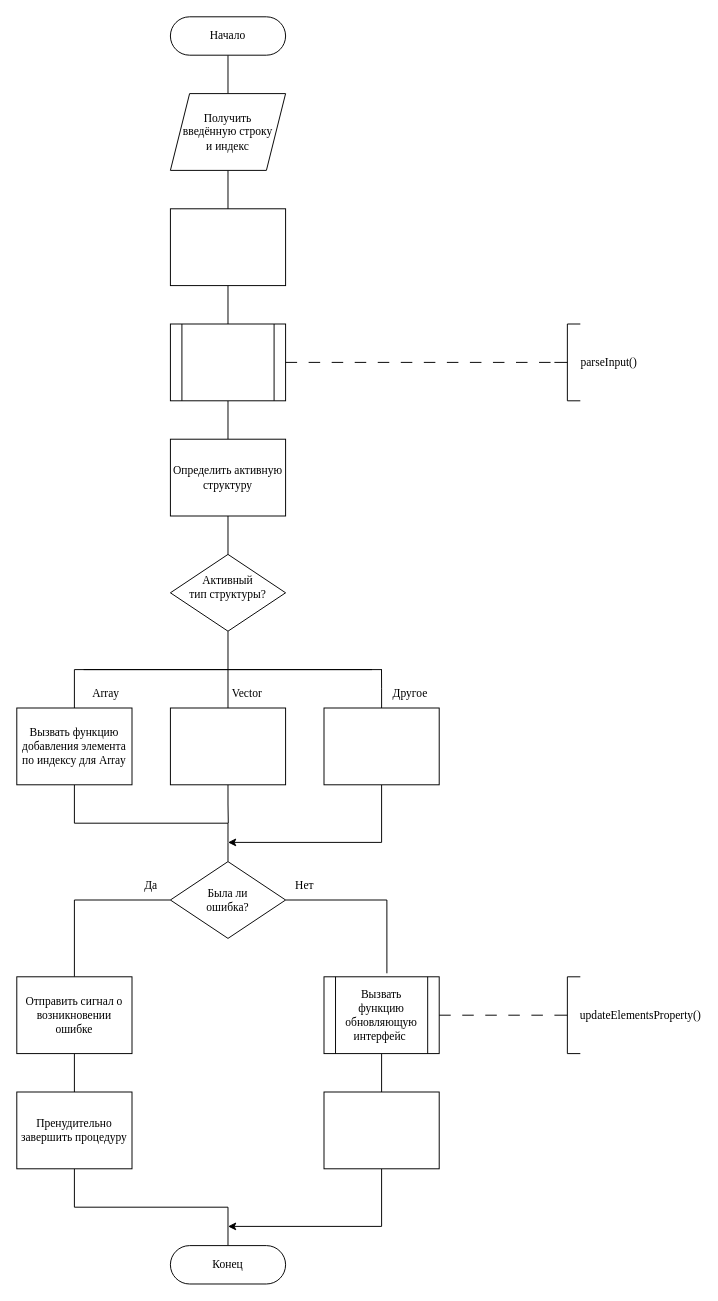
This 718x1301 diagram has some shape labels left out. Here are the shapes that lost their labels. From the top down, the box of each, then its label:
(169, 208, 286, 286): Блок обработки ошибок
(169, 323, 286, 401): Преобразовать строку в элемент нужного типа
(169, 707, 286, 785): Вызвать функцию добавления элемента по индексу для Vector
(323, 707, 439, 785): Выбросить ошибку
(323, 1091, 439, 1169): Отправить сигналы об изменении элементов и их количества
